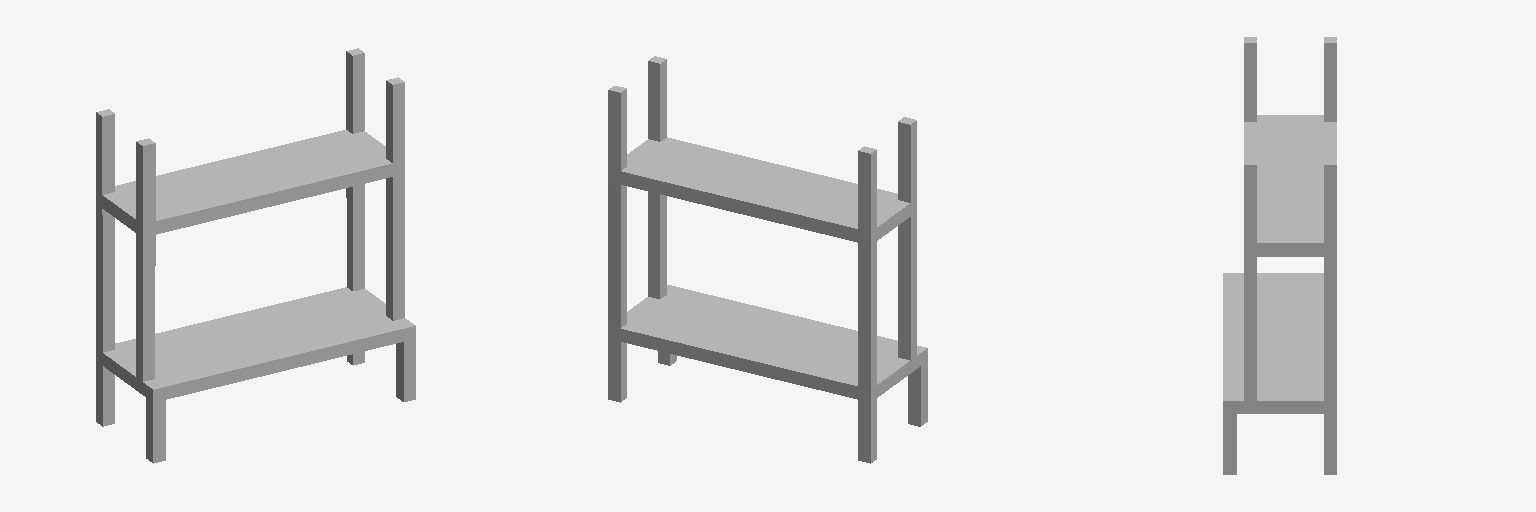
Rendered from Kitchen_utensil_rack.obj.
3 views of the same model, side by side, from view 1: azimuth 30°, elevation 25°; view 2: azimuth 150°, elevation 25°; view 3: azimuth 270°, elevation 25° (orthographic).
Visible parts, largest first — view 1: Kitchen_rack:pCube9; view 2: Kitchen_rack:pCube9; view 3: Kitchen_rack:pCube9.
Boxes of the visible parts, <box> form: Kitchen_rack:pCube9: <box>96,48,415,463</box>; Kitchen_rack:pCube9: <box>608,56,927,463</box>; Kitchen_rack:pCube9: <box>1223,37,1336,474</box>.
Bounding box in the file's own units: 30.52 × 34.41 × 11.49.